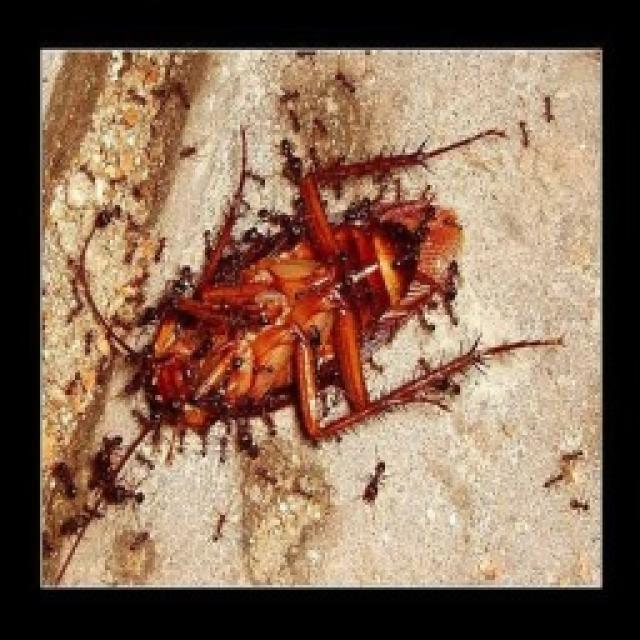cockroach: (122, 126, 524, 467)
